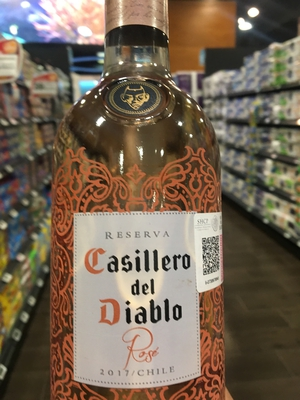casillero del diablo rose: (40, 28, 236, 400)
